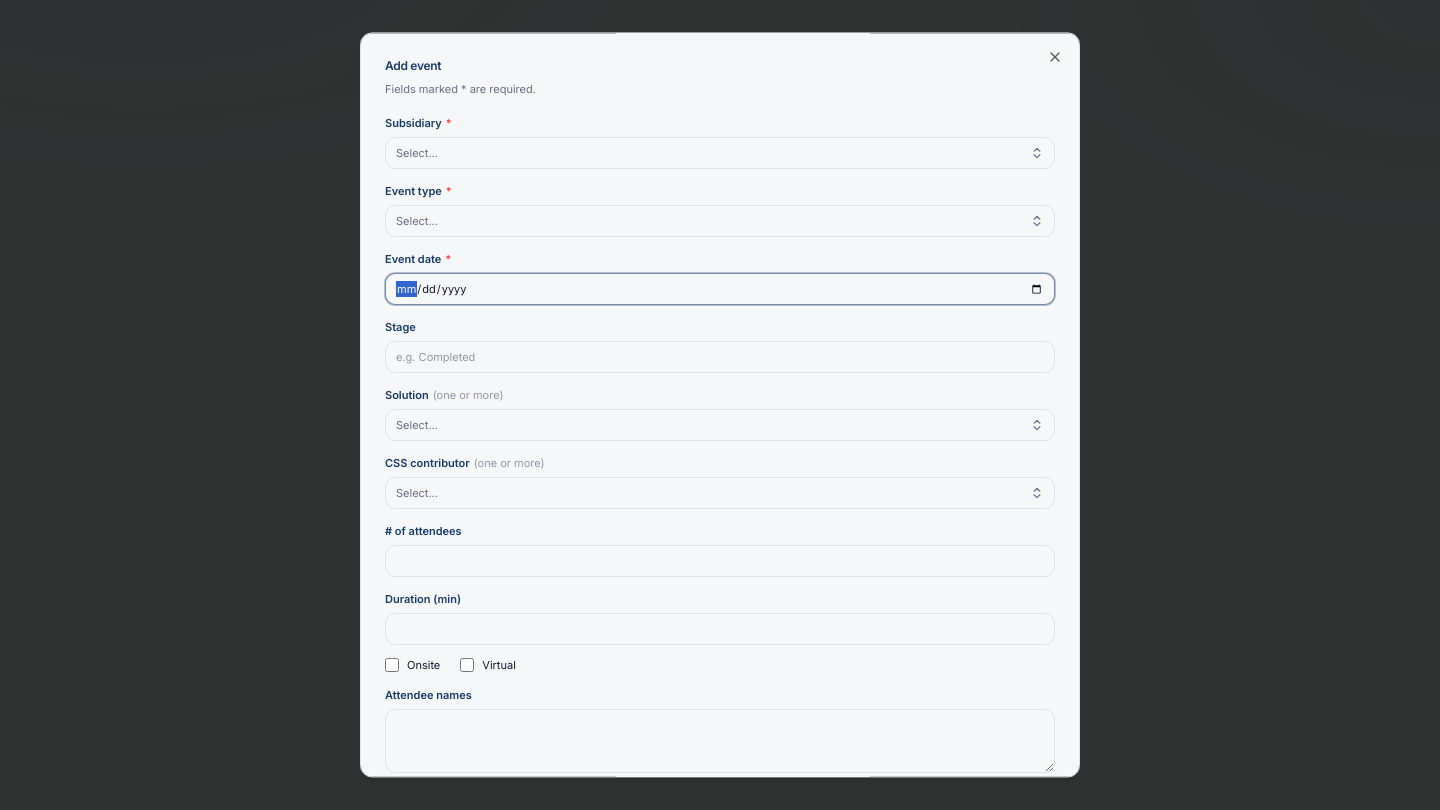
EventForm, add › EVF-ADD-003 still posts a new event without an Id, toasts Event added, closes and refreshes the events
Expected: the dialog "Add event" is shown, [360, 32, 1080, 778]
Click the button "Select..." below "Subsidiary" at [417, 153], box [385, 137, 1055, 169]
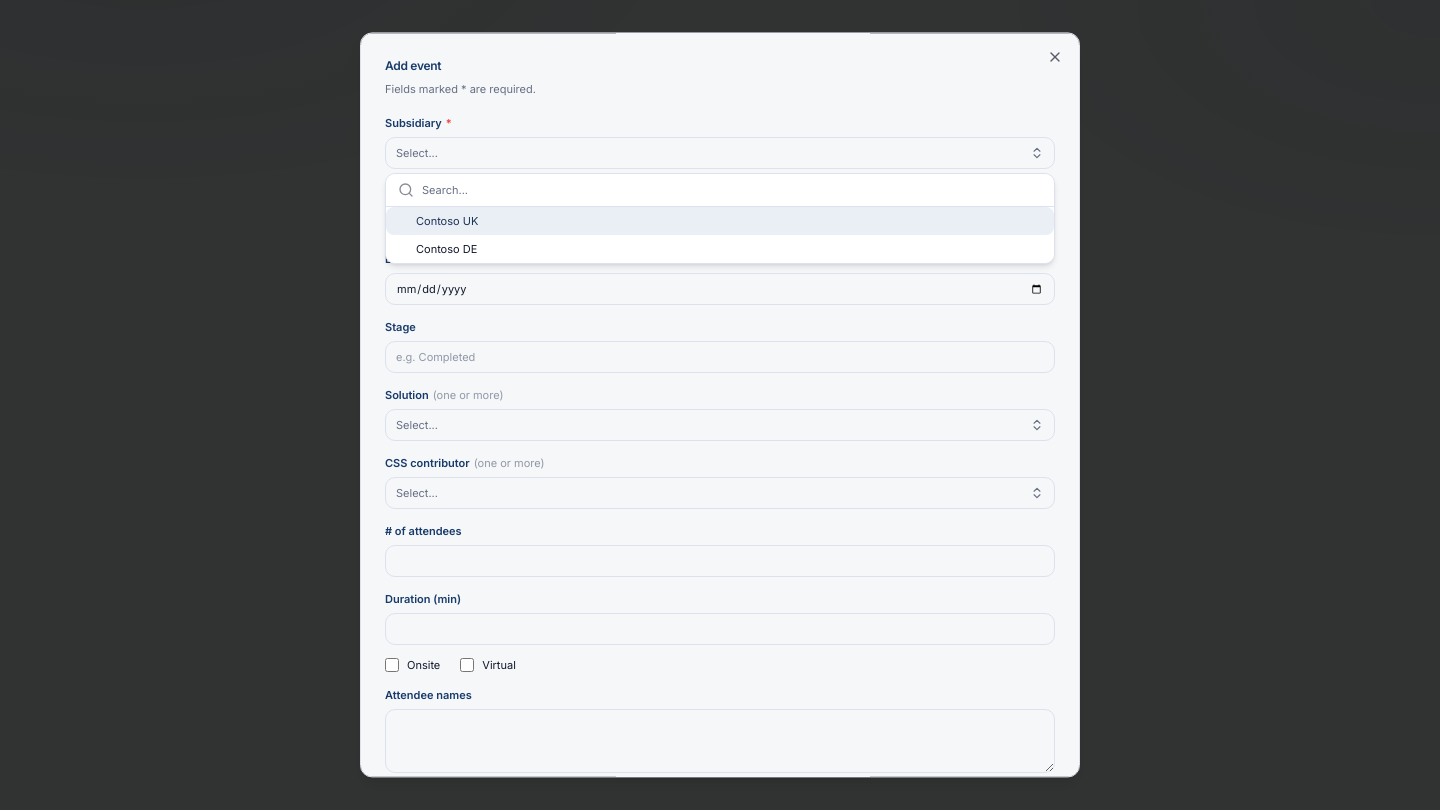
Click the option "Contoso UK" at [447, 221], box [386, 207, 1054, 235]
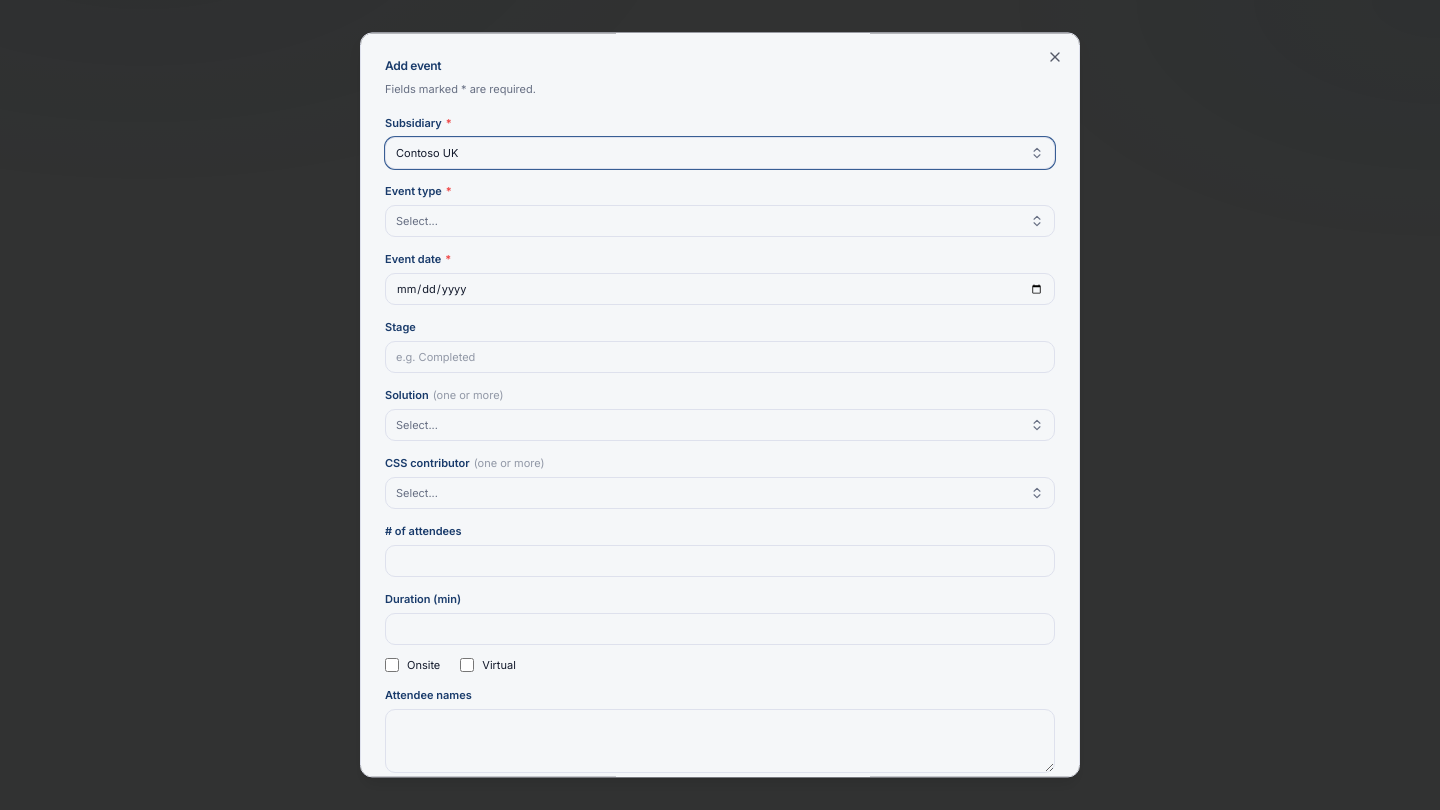
Click the button "Select..." below "Event type" at [417, 221], box [385, 205, 1055, 237]
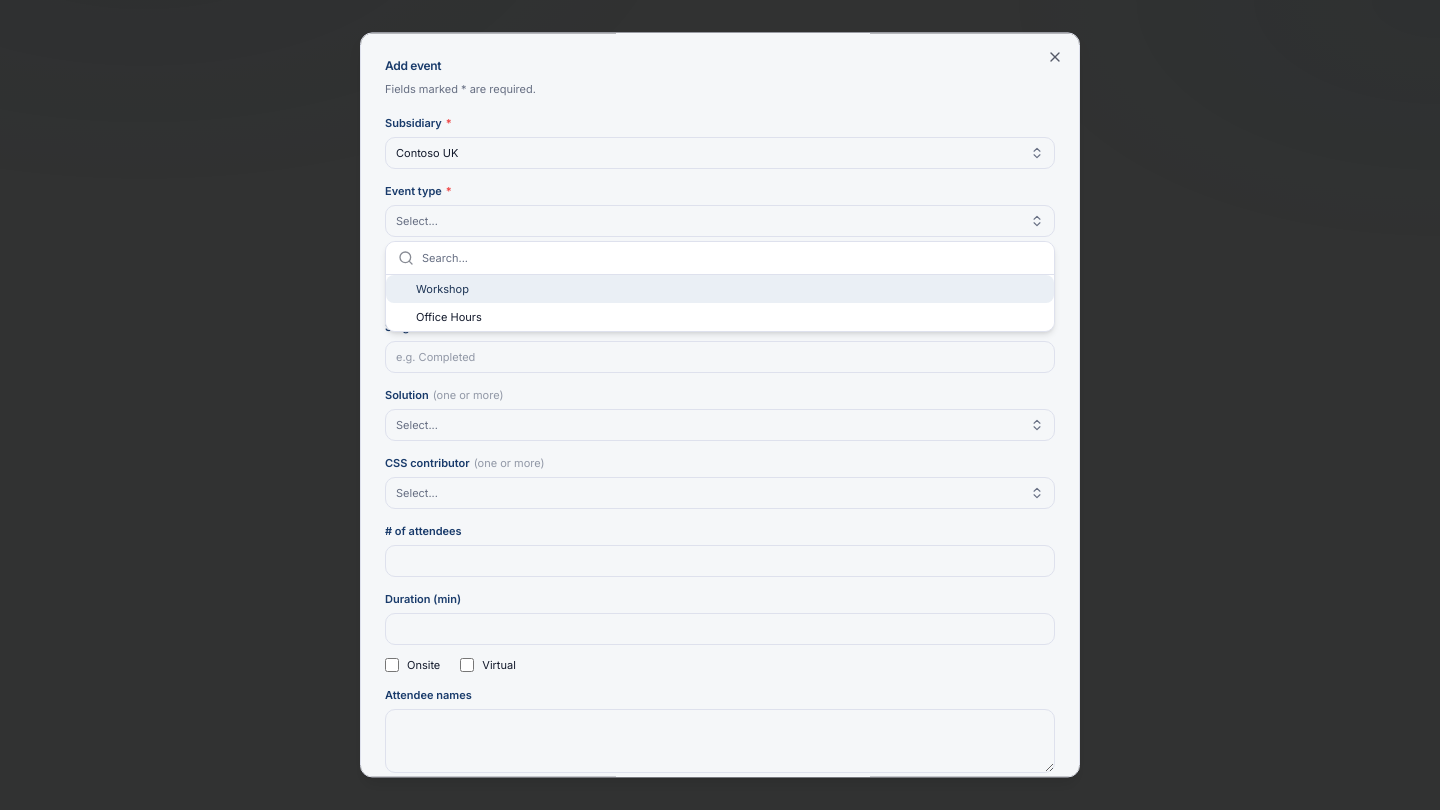
Click the option "Workshop" at [442, 289], box [386, 275, 1054, 303]
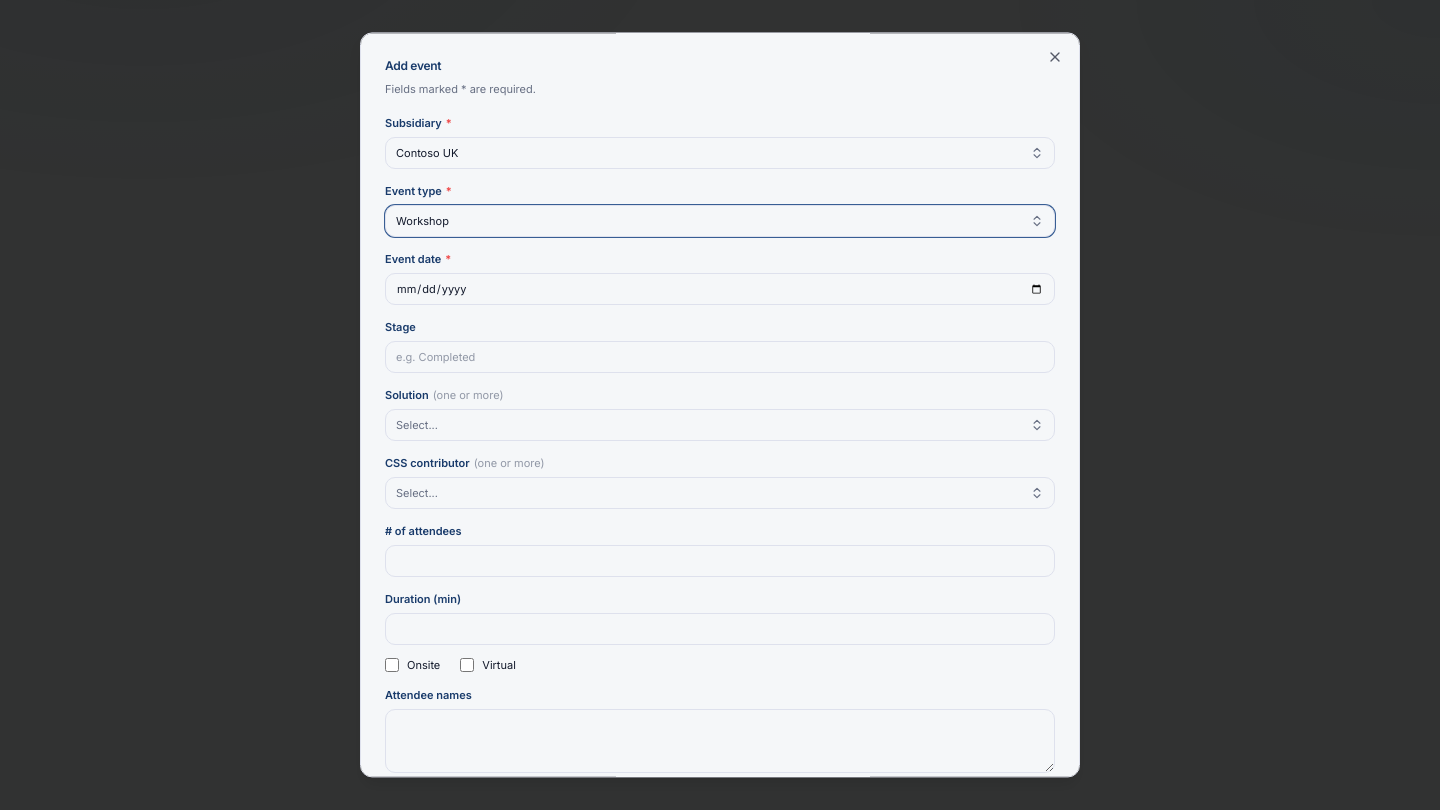
Type "2026-12-01" into the date field at [720, 289], box [385, 273, 1055, 305]
(page scrolled)
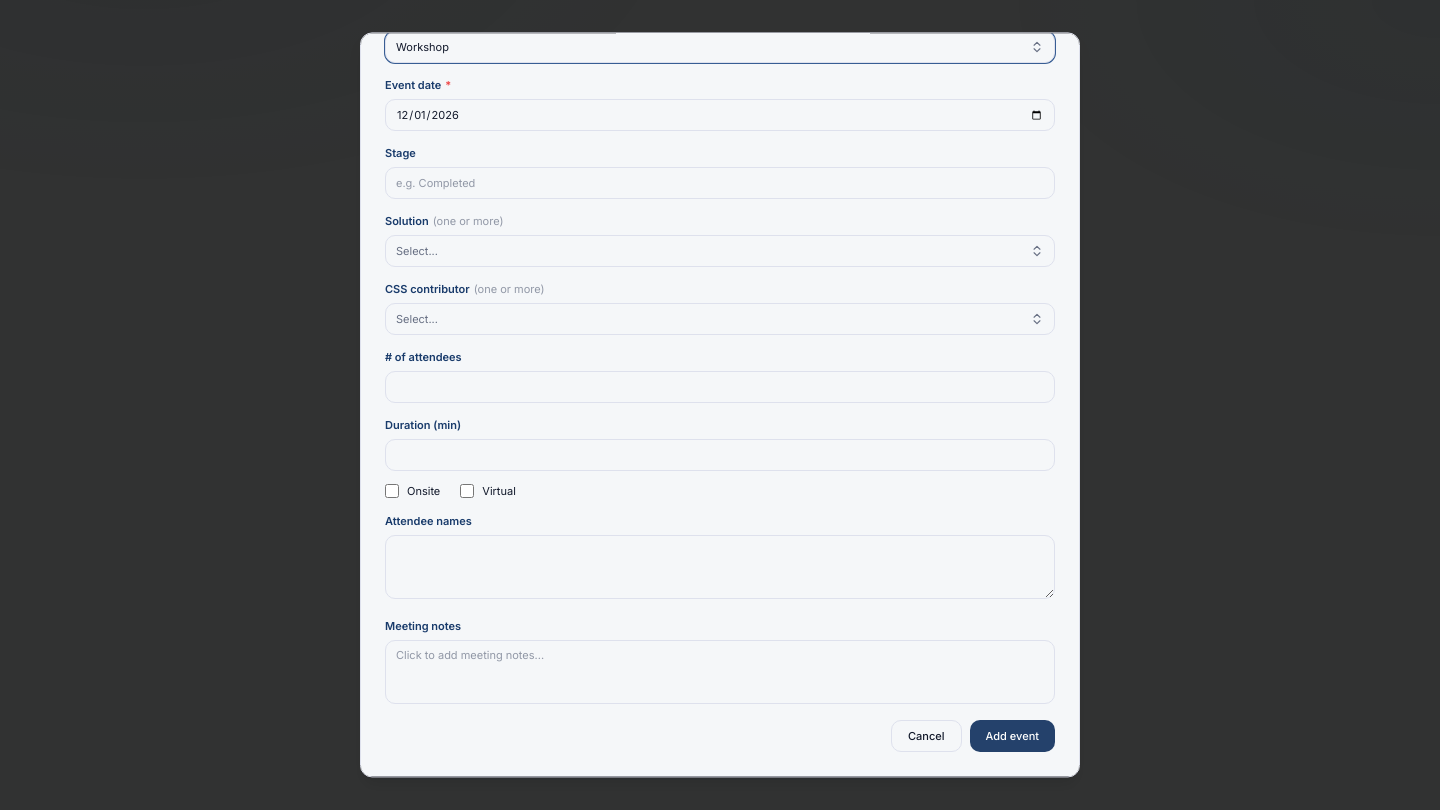
Click the button "Add event" at [1012, 736], box [970, 720, 1055, 752]
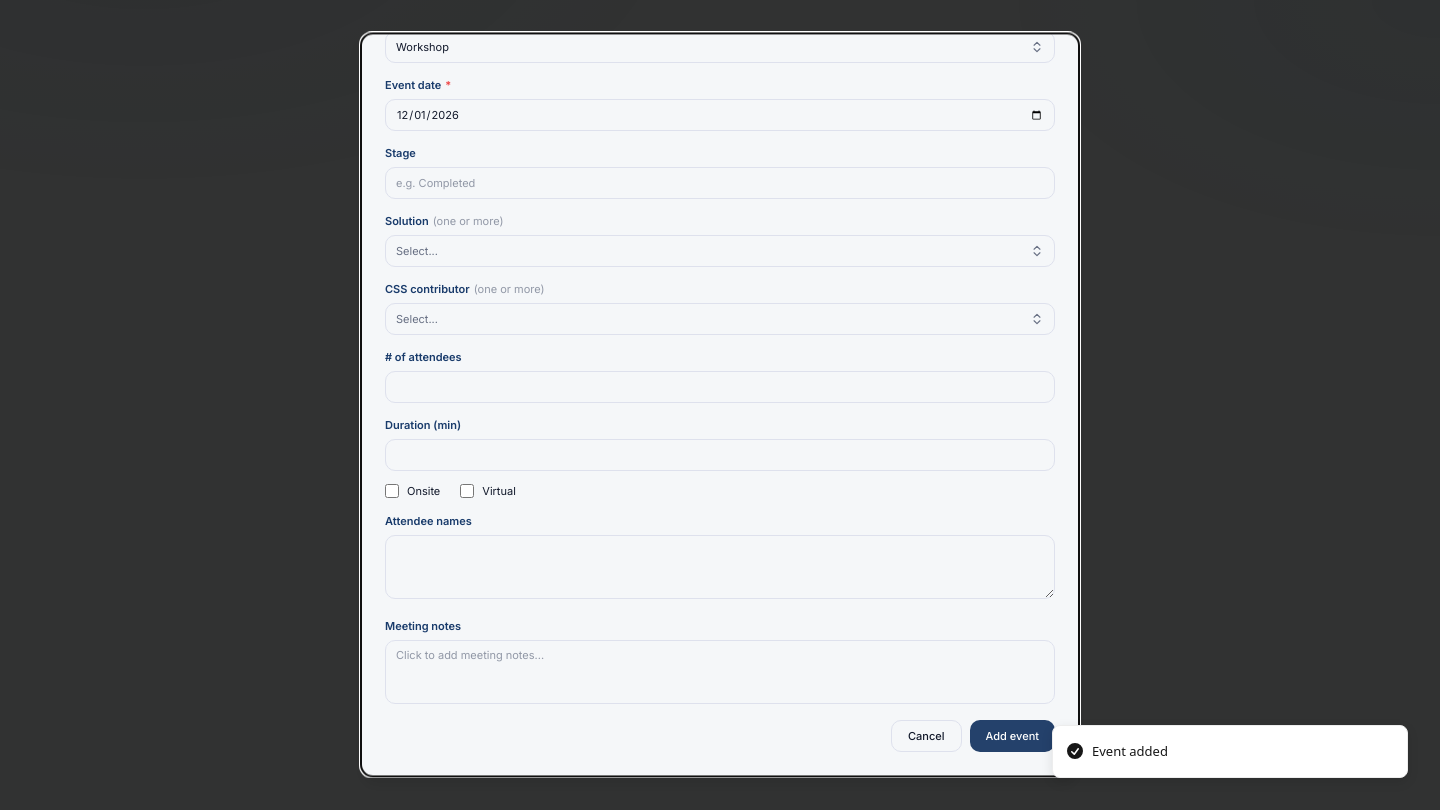
Expected: the text "Event added" is shown, [1092, 742, 1168, 761]
